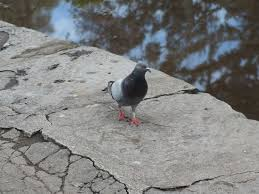pigeon: (100, 62, 153, 127)
